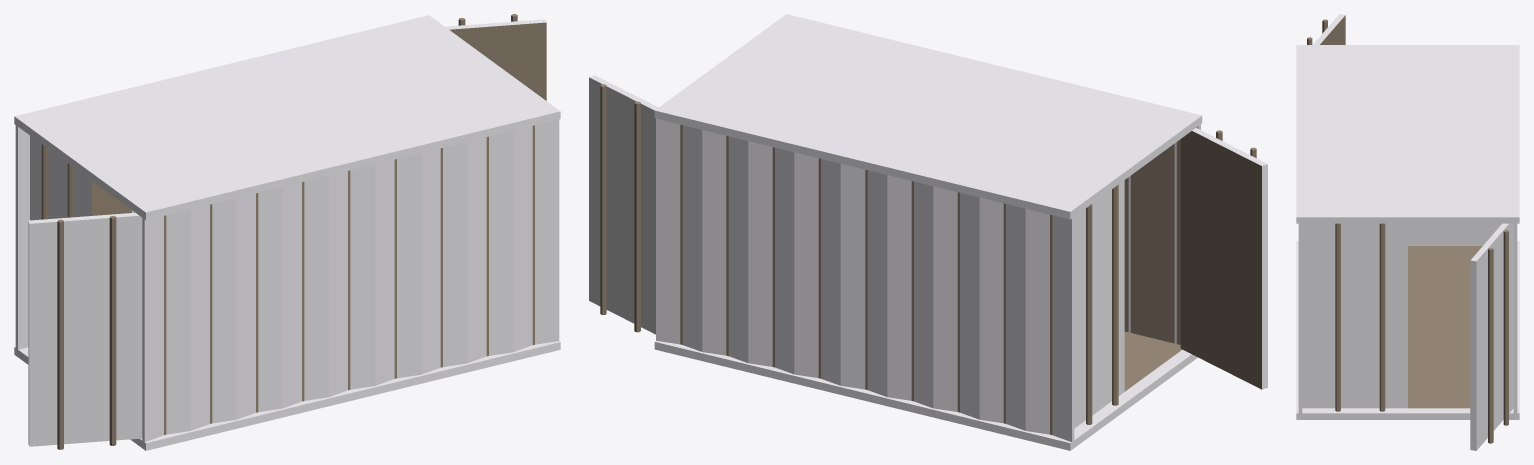
The model's file is Mesh_Container_02.fbx.
3 views of the same model, side by side, from view 1: azimuth 30°, elevation 25°; view 2: azimuth 150°, elevation 25°; view 3: azimuth 270°, elevation 25° (orthographic). The views are drawn at different scales.
Parts seen in each view (by area): view 1: Mesh_Container_02; view 2: Mesh_Container_02; view 3: Mesh_Container_02.
Boxes of the visible parts, x1,y1,x2,y2 form: Mesh_Container_02: (14,14,560,450); Mesh_Container_02: (589,14,1267,450); Mesh_Container_02: (1296,14,1519,450).
Size of the model in its own units: 576 by 220 by 220.
